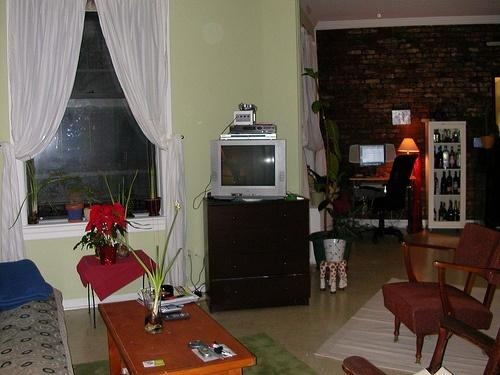bottle: (446, 199, 454, 223), (440, 171, 447, 195), (439, 201, 447, 222), (447, 171, 454, 194), (436, 147, 443, 170), (453, 200, 461, 220), (443, 146, 450, 168), (450, 147, 457, 167), (453, 170, 458, 194), (457, 147, 461, 167)
chair: (381, 223, 500, 362), (344, 313, 500, 375), (358, 153, 421, 244)
pottedplant: (302, 64, 358, 266), (323, 193, 356, 265), (91, 204, 128, 266), (104, 171, 140, 215), (68, 184, 104, 222), (26, 156, 41, 225), (144, 163, 162, 216), (76, 234, 107, 258)
sofa: (1, 258, 77, 375)
tvmonitor: (209, 138, 289, 205), (350, 145, 397, 170)
